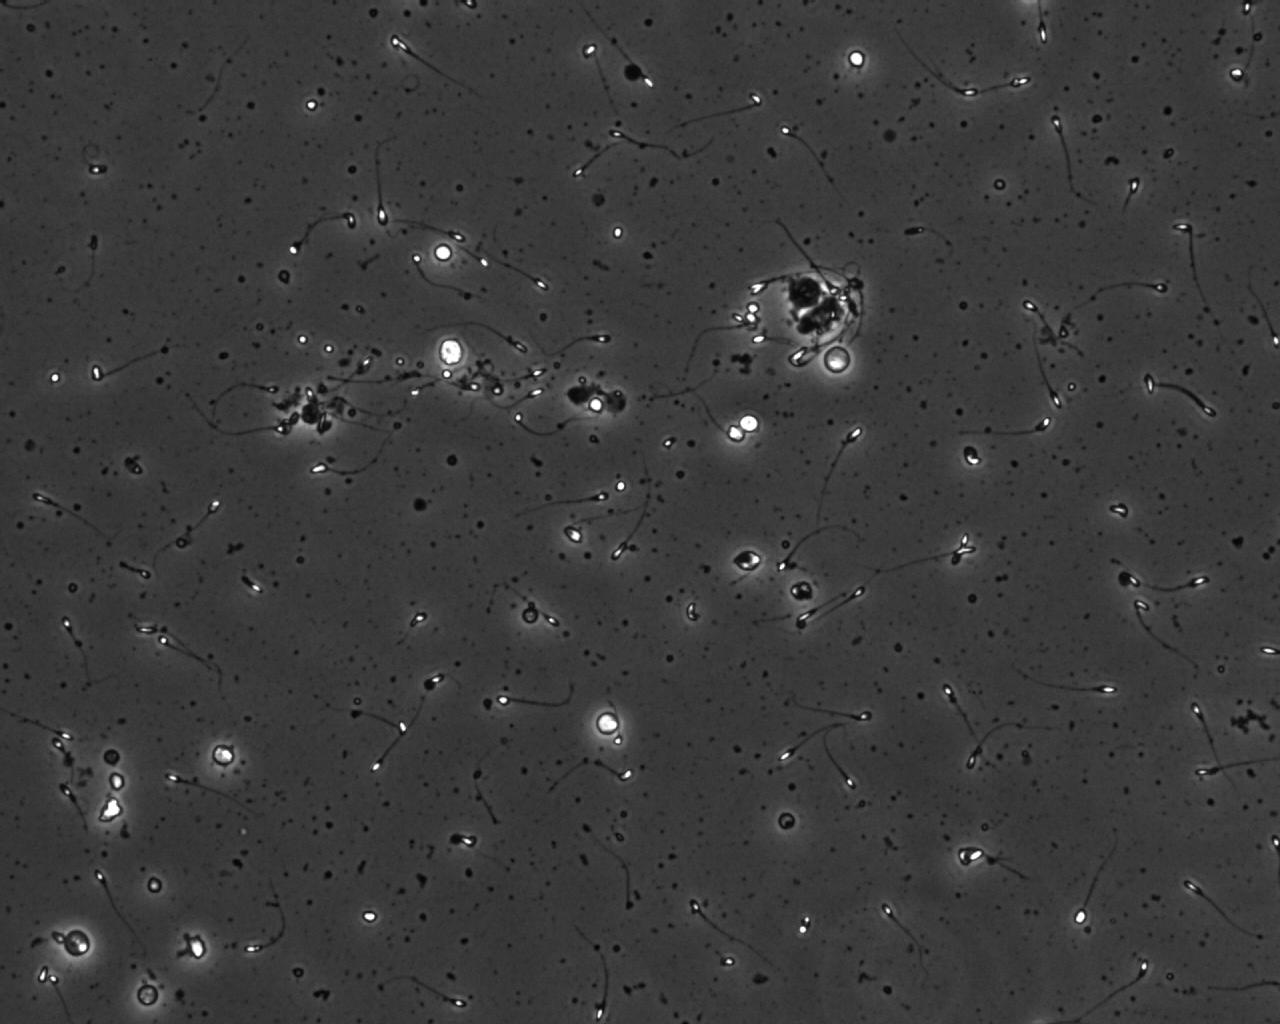cell: (782, 270, 827, 315), (816, 339, 858, 379), (57, 922, 97, 963), (434, 334, 467, 370), (207, 739, 239, 772), (131, 979, 164, 1011), (729, 545, 765, 576), (591, 707, 623, 740), (784, 577, 817, 606), (183, 932, 210, 964), (734, 409, 763, 436), (429, 239, 457, 266), (843, 45, 869, 73), (773, 808, 800, 834), (723, 421, 749, 447), (517, 602, 543, 628), (104, 767, 129, 795), (99, 743, 124, 769), (143, 872, 166, 898), (585, 393, 608, 417)
